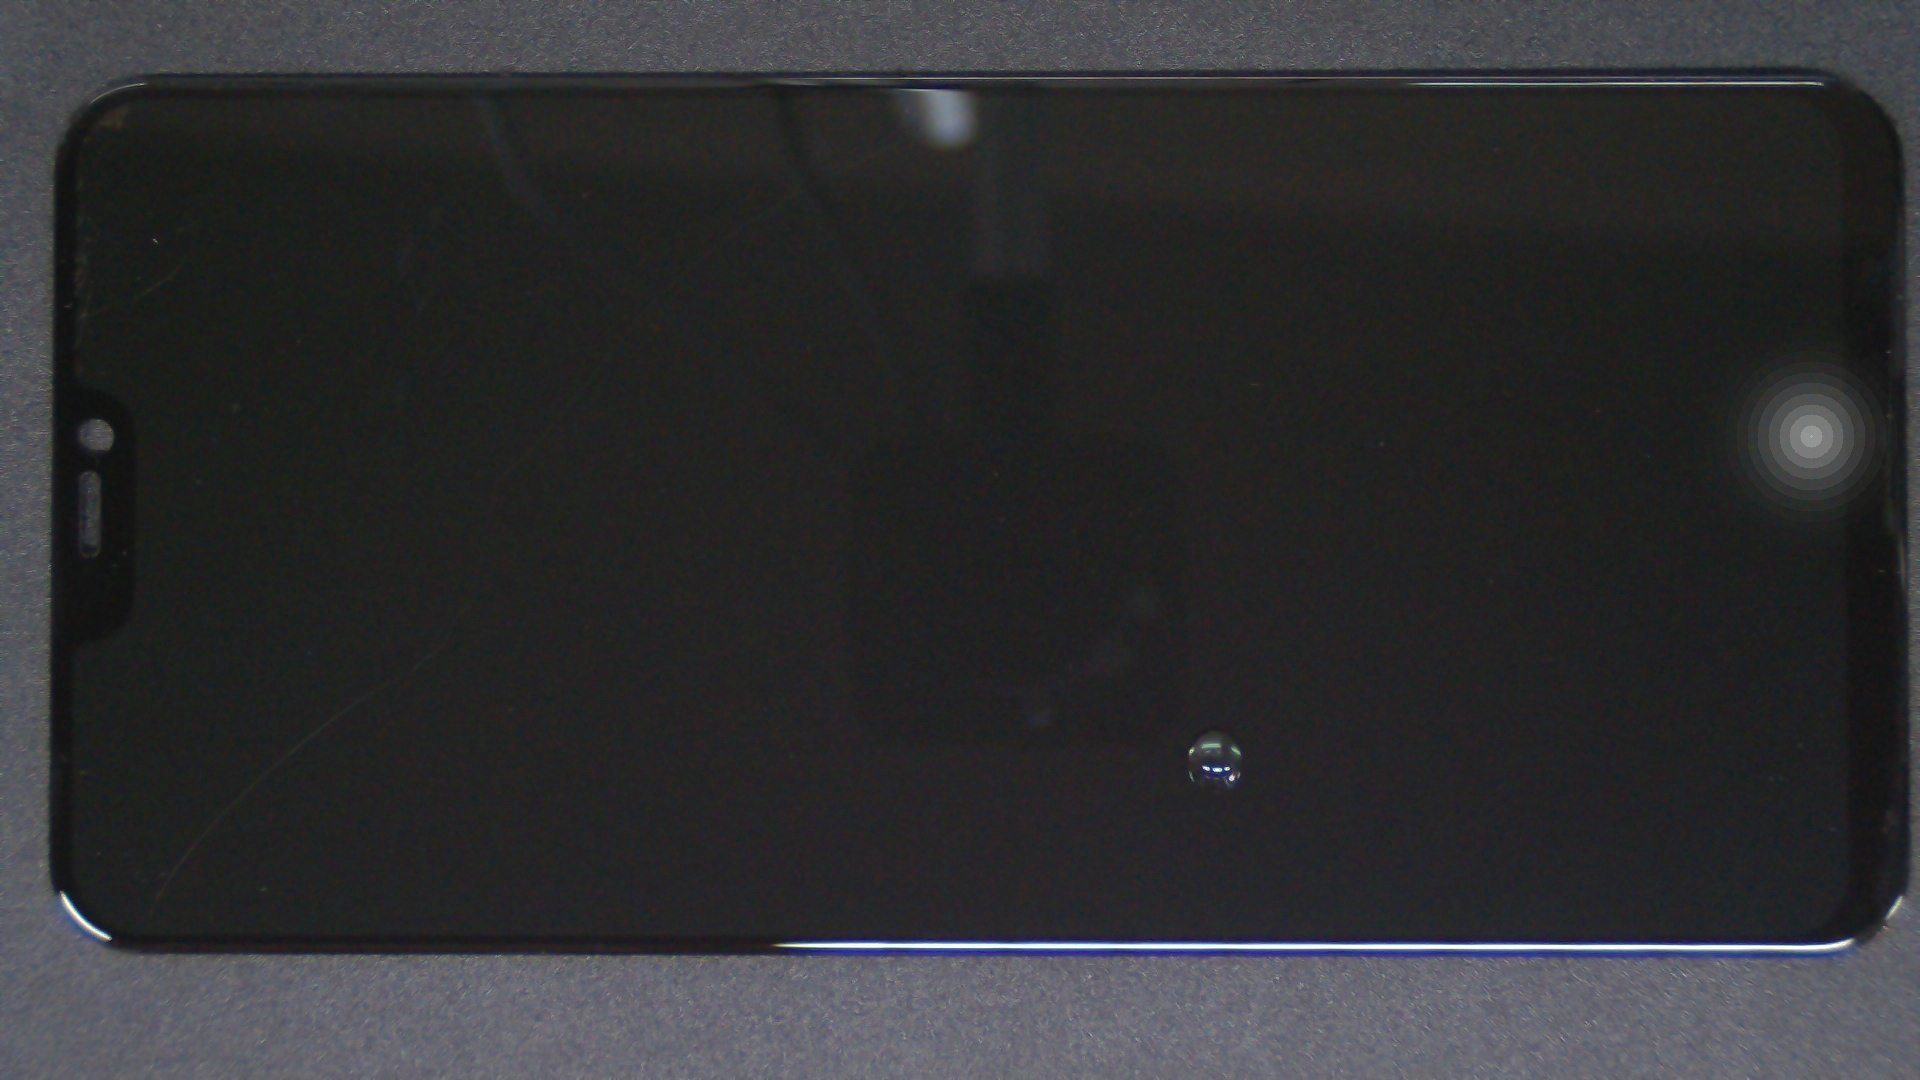oil: (608, 364, 1821, 1080)
